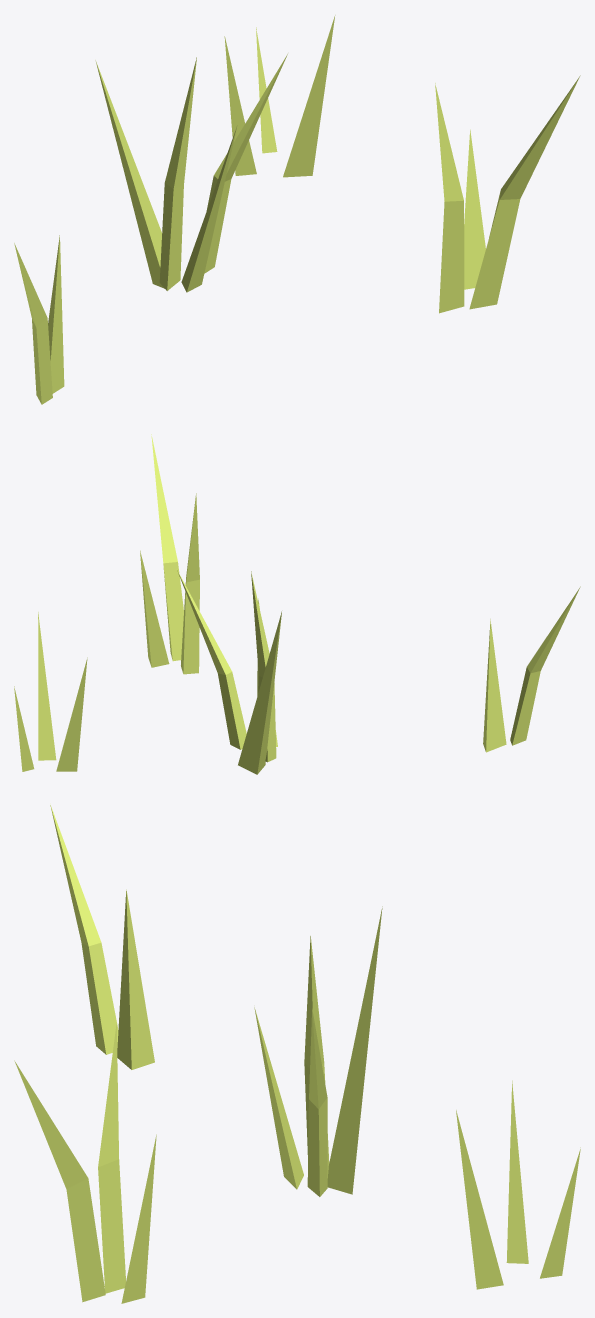
Rendered from Grass_B.fbx.
The picture shows the model from 3 angles, top to bottom: view 1: azimuth 30°, elevation 25°; view 2: azimuth 150°, elevation 25°; view 3: azimuth 270°, elevation 25°; orthographic projection. The views are drawn at different scales.
Visible parts, largest first — view 1: Grass3D_a_06; view 2: Grass3D_a_06; view 3: Grass3D_a_06.
Boxes of the visible parts, x1,y1,x2,y2 form: Grass3D_a_06: (14,15,580,404); Grass3D_a_06: (14,434,580,774); Grass3D_a_06: (14,805,580,1303).
Size of the model in its own units: 140 by 60.56 by 109.
